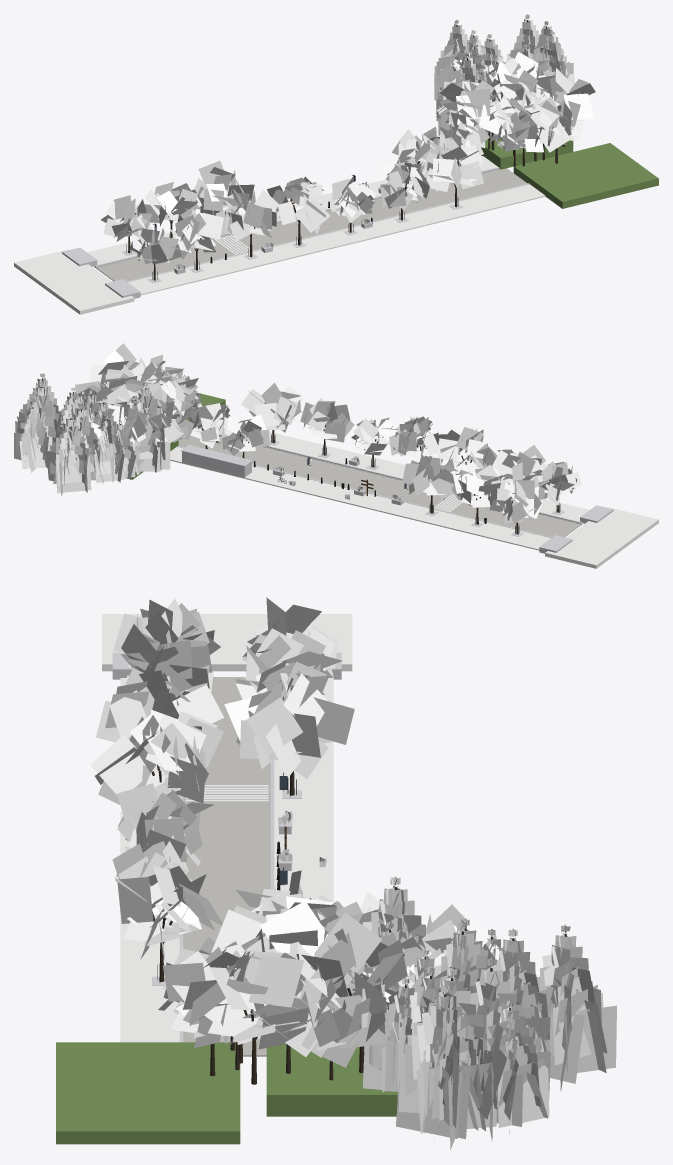
File: social-cafe-street.glb
3 renders of one model, top to bottom at view 1: azimuth 30°, elevation 25°; view 2: azimuth 150°, elevation 25°; view 3: azimuth 270°, elevation 25°, orthographic. The views are drawn at different scales.
Visible parts, largest first — view 1: mesh_cebc8f3b53ee_415, mesh_cebc8f3b53ee_411, mesh_cebc8f3b53ee_421, mesh_cebc8f3b53ee_419, mesh_679ef8371029_484, mesh_679ef8371029_462, mesh_679ef8371029_450, mesh_679ef8371029_453, mesh_679ef8371029_441, mesh_679ef8371029_473, mesh_679ef8371029_481, mesh_679ef8371029_487 (+23 smaller); view 2: mesh_679ef8371029_489, mesh_cebc8f3b53ee_411, mesh_cebc8f3b53ee_413, mesh_679ef8371029_487, mesh_cebc8f3b53ee_419, mesh_cebc8f3b53ee_415, mesh_679ef8371029_462, mesh_679ef8371029_488, mesh_679ef8371029_481, mesh_679ef8371029_450, mesh_679ef8371029_441, mesh_679ef8371029_477 (+21 smaller); view 3: mesh_679ef8371029_487, mesh_cebc8f3b53ee_421, mesh_679ef8371029_489, mesh_cebc8f3b53ee_411, mesh_679ef8371029_484, mesh_679ef8371029_473, mesh_679ef8371029_479, mesh_cebc8f3b53ee_420, mesh_cebc8f3b53ee_413, mesh_679ef8371029_462, mesh_679ef8371029_450, mesh_679ef8371029_453 (+19 smaller).
Boxes of the visible parts, x1,y1,x2,y2 form: mesh_cebc8f3b53ee_415: [128, 184, 545, 295]; mesh_cebc8f3b53ee_411: [94, 168, 527, 281]; mesh_cebc8f3b53ee_421: [513, 143, 658, 208]; mesh_cebc8f3b53ee_419: [14, 249, 134, 314]; mesh_679ef8371029_484: [489, 68, 595, 152]; mesh_679ef8371029_462: [396, 134, 483, 192]; mesh_679ef8371029_450: [168, 185, 278, 241]; mesh_679ef8371029_453: [200, 174, 362, 222]; mesh_679ef8371029_441: [111, 198, 181, 264]; mesh_679ef8371029_473: [267, 176, 330, 234]; mesh_679ef8371029_481: [436, 51, 510, 127]; mesh_679ef8371029_487: [443, 21, 574, 143]; mesh_679ef8371029_489: [15, 381, 159, 496]; mesh_cebc8f3b53ee_411: [178, 431, 582, 537]; mesh_cebc8f3b53ee_413: [170, 447, 550, 550]; mesh_679ef8371029_487: [14, 373, 170, 482]; mesh_cebc8f3b53ee_419: [545, 507, 658, 568]; mesh_cebc8f3b53ee_415: [195, 426, 589, 522]; mesh_679ef8371029_462: [221, 383, 303, 446]; mesh_679ef8371029_488: [60, 388, 137, 483]; mesh_679ef8371029_481: [87, 375, 197, 443]; mesh_679ef8371029_450: [436, 427, 497, 497]; mesh_679ef8371029_441: [509, 461, 581, 518]; mesh_679ef8371029_477: [300, 398, 354, 442]; mesh_679ef8371029_487: [362, 876, 552, 1150]; mesh_cebc8f3b53ee_421: [56, 1042, 240, 1144]; mesh_679ef8371029_489: [407, 924, 616, 1141]; mesh_cebc8f3b53ee_411: [185, 677, 268, 1056]; mesh_679ef8371029_484: [158, 947, 316, 1049]; mesh_679ef8371029_473: [90, 709, 223, 804]; mesh_679ef8371029_479: [260, 901, 399, 1067]; mesh_cebc8f3b53ee_420: [266, 1044, 397, 1116]; mesh_cebc8f3b53ee_413: [274, 678, 333, 901]; mesh_679ef8371029_462: [115, 866, 293, 960]; mesh_679ef8371029_450: [96, 651, 300, 742]; mesh_679ef8371029_453: [117, 681, 302, 840].
Size of the model in its own units: 97.21 by 14.58 by 42.62.
